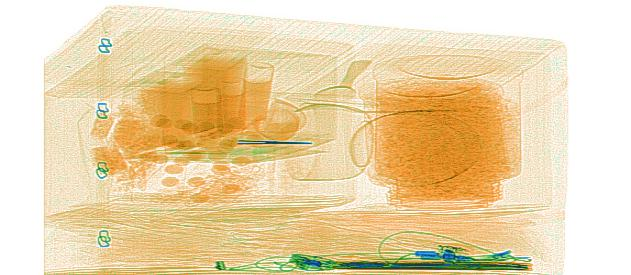scissors: (196, 127, 314, 152)
